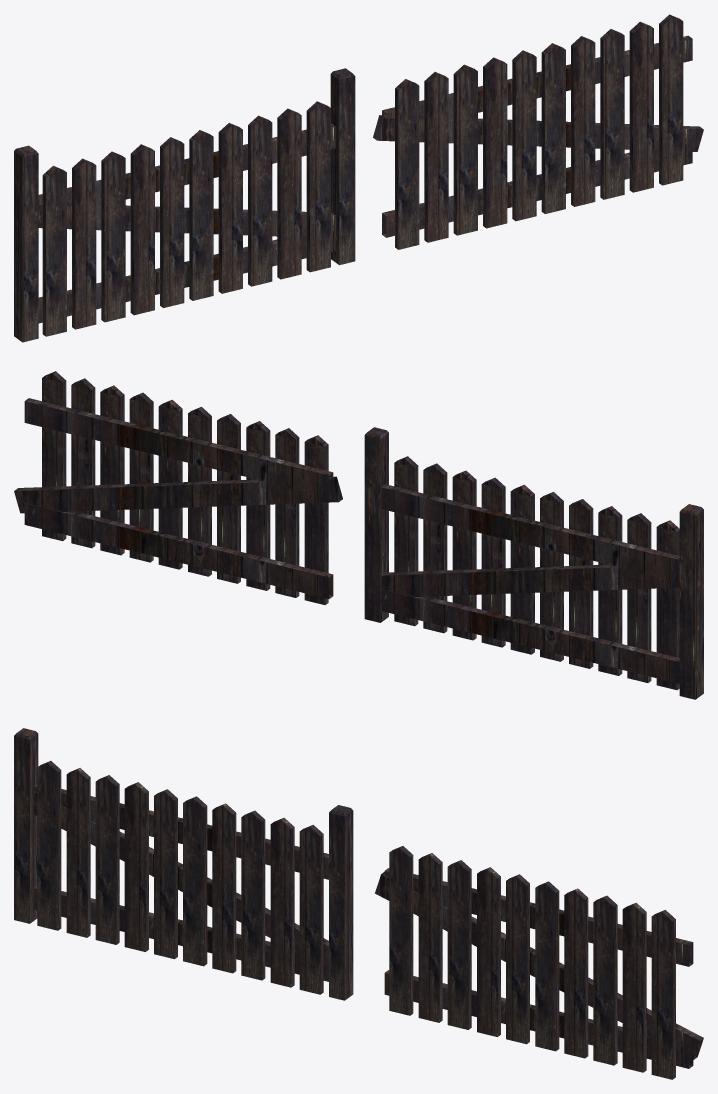
The model's file is fence.obj.
The picture shows the model from 3 angles, top to bottom: view 1: azimuth 30°, elevation 25°; view 2: azimuth 150°, elevation 25°; view 3: azimuth 330°, elevation 25°; orthographic projection.
Visible parts, largest first — view 1: Cube.002_Cube.013; view 2: Cube.002_Cube.013; view 3: Cube.002_Cube.013.
Part boxes in pixels (<box>): Cube.002_Cube.013: <box>14,14,703,342</box>; Cube.002_Cube.013: <box>14,371,703,699</box>; Cube.002_Cube.013: <box>14,728,703,1079</box>.
Bounding box in the file's own units: 4.08 × 1.07 × 0.0902.
1 material, 1 textured.
